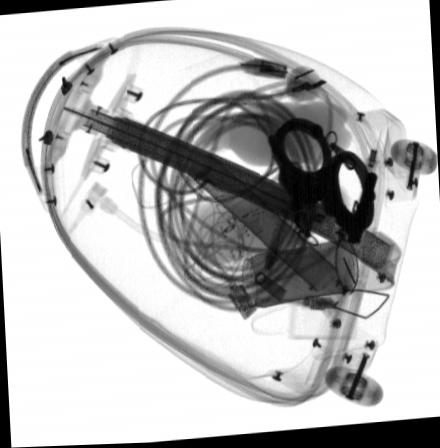HandCuffs: (264, 120, 378, 247)
